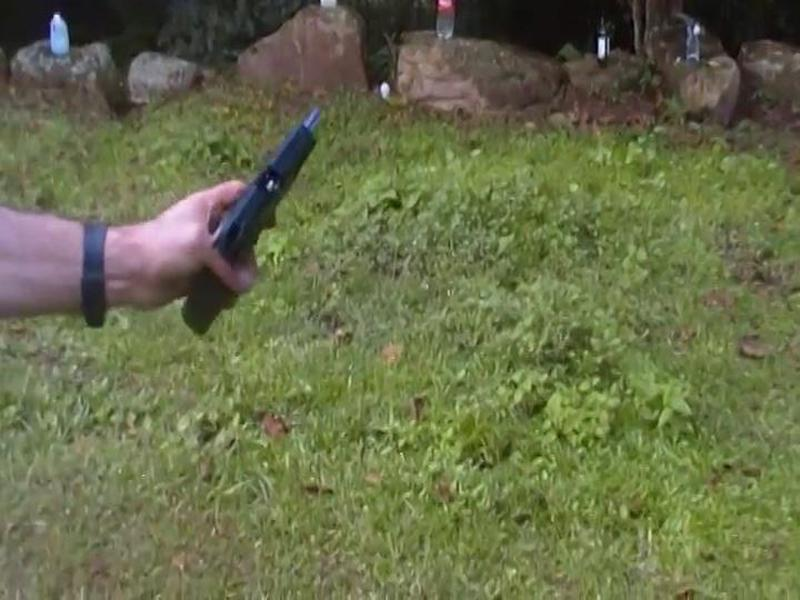Pistola: (183, 111, 340, 316)
